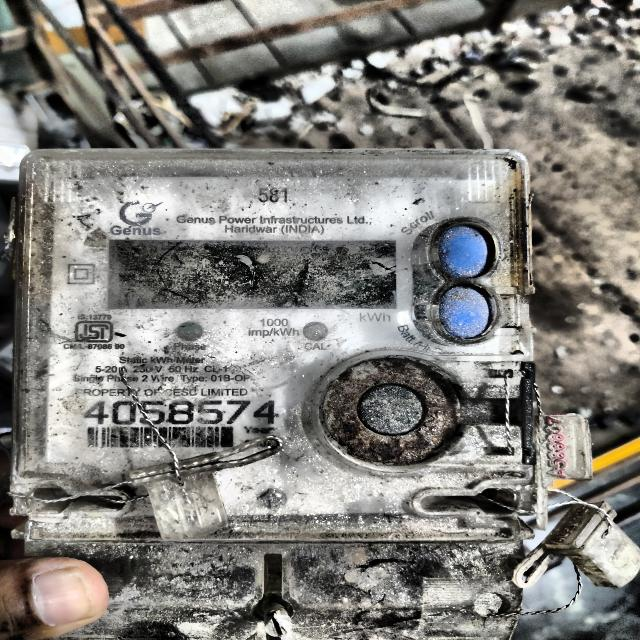Digital: (11, 144, 530, 557)
Reading: (112, 242, 394, 306)
Serial No.: (76, 398, 282, 425)
